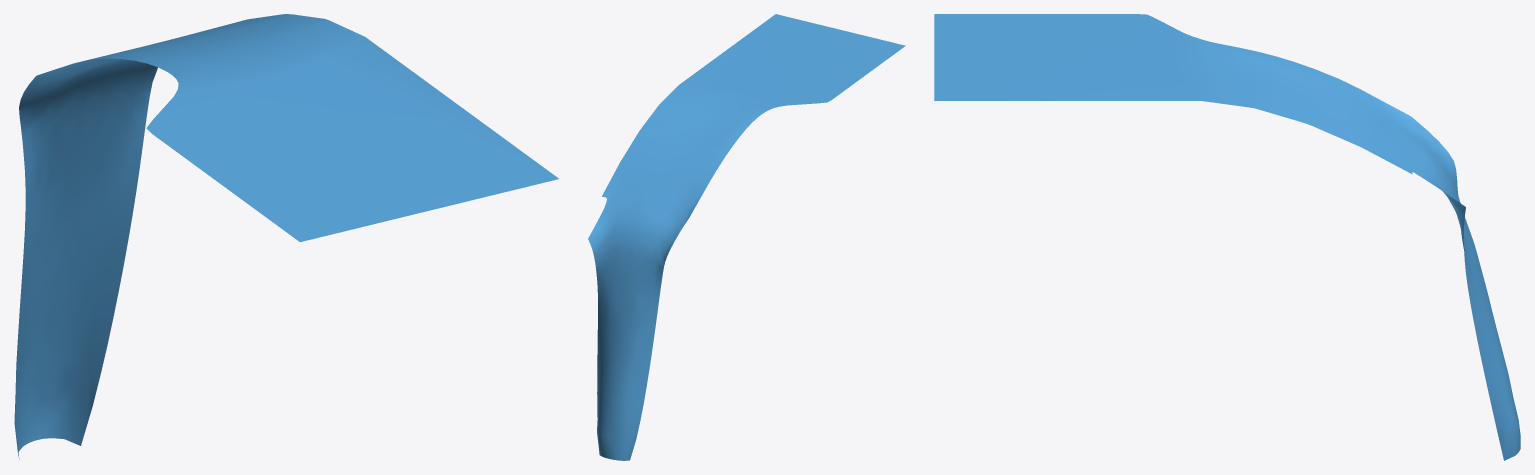
Rendered from rever 1.fbx.
The picture shows the model from 3 angles, left to right: view 1: azimuth 30°, elevation 25°; view 2: azimuth 150°, elevation 25°; view 3: azimuth 270°, elevation 25°; orthographic projection. The views are drawn at different scales.
Parts seen in each view (by area): view 1: water.003; view 2: water.003; view 3: water.003.
Boxes of the visible parts, box(x1,y1,x2,y2) form: water.003: box(14, 14, 558, 458); water.003: box(588, 14, 905, 460); water.003: box(934, 14, 1520, 460).
Size of the model in its own units: 1772 by 3627 by 5056.
